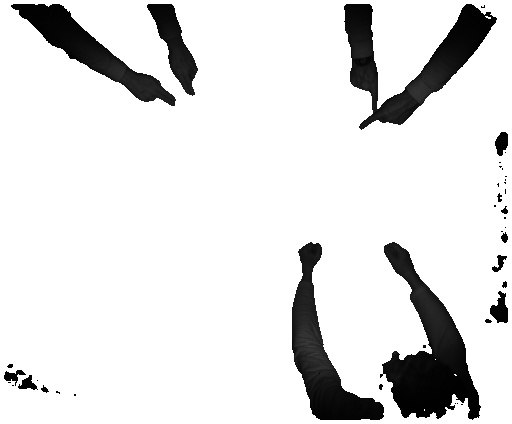fist: (384, 240, 415, 278), (296, 240, 327, 276)
hand: (360, 98, 418, 135), (344, 60, 381, 116), (124, 76, 178, 111), (170, 42, 199, 98)
